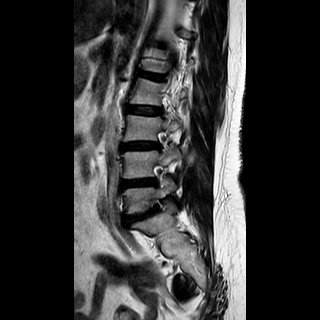RFS2: (146, 158, 176, 195)
